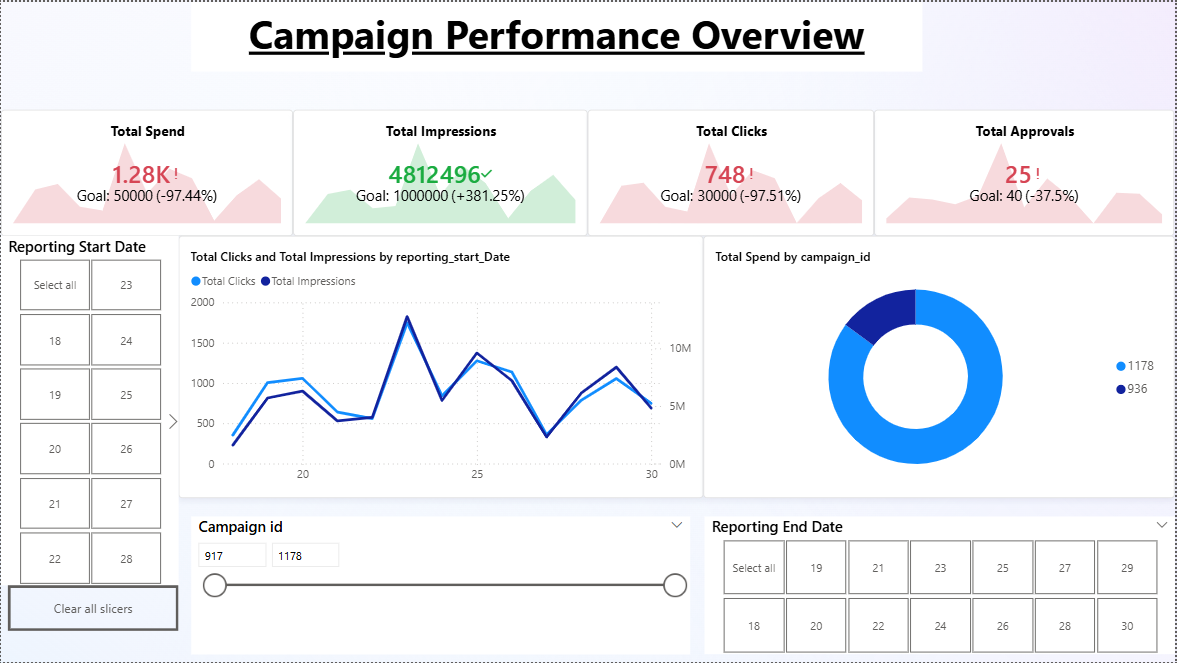

What the dashboard file says about the page in this screenshot:
{"tool":"powerbi","page":{"name":"Page 1","canvas":[1280,720],"ordinal":0},"visuals":[{"type":"kpi","title":"Total Spend","fields":{"Indicator":["data.Total Spend"],"Goal":["data.Target Spend"],"TrendLine":["data.reporting_start_Date"]},"box":[0,117.5,318.8,137.5],"z":0},{"type":"kpi","title":"Total Impressions","fields":{"Indicator":["data.Total Impressions"],"Goal":["data.Target Impressions"],"TrendLine":["data.reporting_start_Date"]},"box":[318.8,117.5,321.2,137.5],"z":1},{"type":"kpi","title":"Total Approvals","fields":{"Indicator":["data.Total Approvals"],"TrendLine":["data.reporting_start_Date"],"Goal":["data.Target approvel"]},"box":[952.5,117.5,327.5,137.5],"z":2},{"type":"kpi","title":"Total Clicks","fields":{"Indicator":["data.Total Clicks"],"Goal":["data.Target Clicks"],"TrendLine":["data.reporting_start_Date"]},"box":[640,117.5,312.5,137.5],"z":3},{"type":"lineChart","fields":{"Category":["data.reporting_start_Date"],"Y":["data.Total Clicks"],"Y2":["data.Total Impressions"]},"box":[193.8,255,572.5,286.2],"z":4},{"type":"donutChart","fields":{"Category":["data.campaign_id"],"Y":["data.Total Spend"]},"box":[766.2,255,513.8,286.2],"z":5},{"type":"slicer","fields":{"Values":["data.reporting_start_Date"]},"box":[0,255,193.8,381.2],"z":6},{"type":"slicer","fields":{"Values":["data.campaign_id"]},"box":[207.5,561.2,543.8,150],"z":8},{"type":"slicer","fields":{"Values":["data.reporting_end_Date"]},"box":[767,561,513,150],"z":9},{"type":"actionButton","box":[7.5,636.2,186.2,50],"z":10},{"type":"textbox","box":[207.5,0,797.5,76.2],"z":11}]}

Visuals, with their boxes in screenshot pixels (x1, y1, x2, y2), scaled from the page's 1280x720 canvas onto the 1177x663 screenshot:
"Total Spend" kpi: (0, 108, 293, 235)
"Total Impressions" kpi: (293, 108, 588, 235)
"Total Approvals" kpi: (876, 108, 1176, 235)
"Total Clicks" kpi: (588, 108, 876, 235)
lineChart - data.reporting_start_Date x data.Total Clicks: (178, 235, 705, 498)
donutChart - data.campaign_id x data.Total Spend: (705, 235, 1176, 498)
slicer - data.reporting_start_Date: (0, 235, 178, 586)
slicer - data.campaign_id: (191, 517, 691, 655)
slicer - data.reporting_end_Date: (705, 517, 1176, 655)
actionButton: (7, 586, 178, 632)
textbox: (191, 0, 924, 70)
